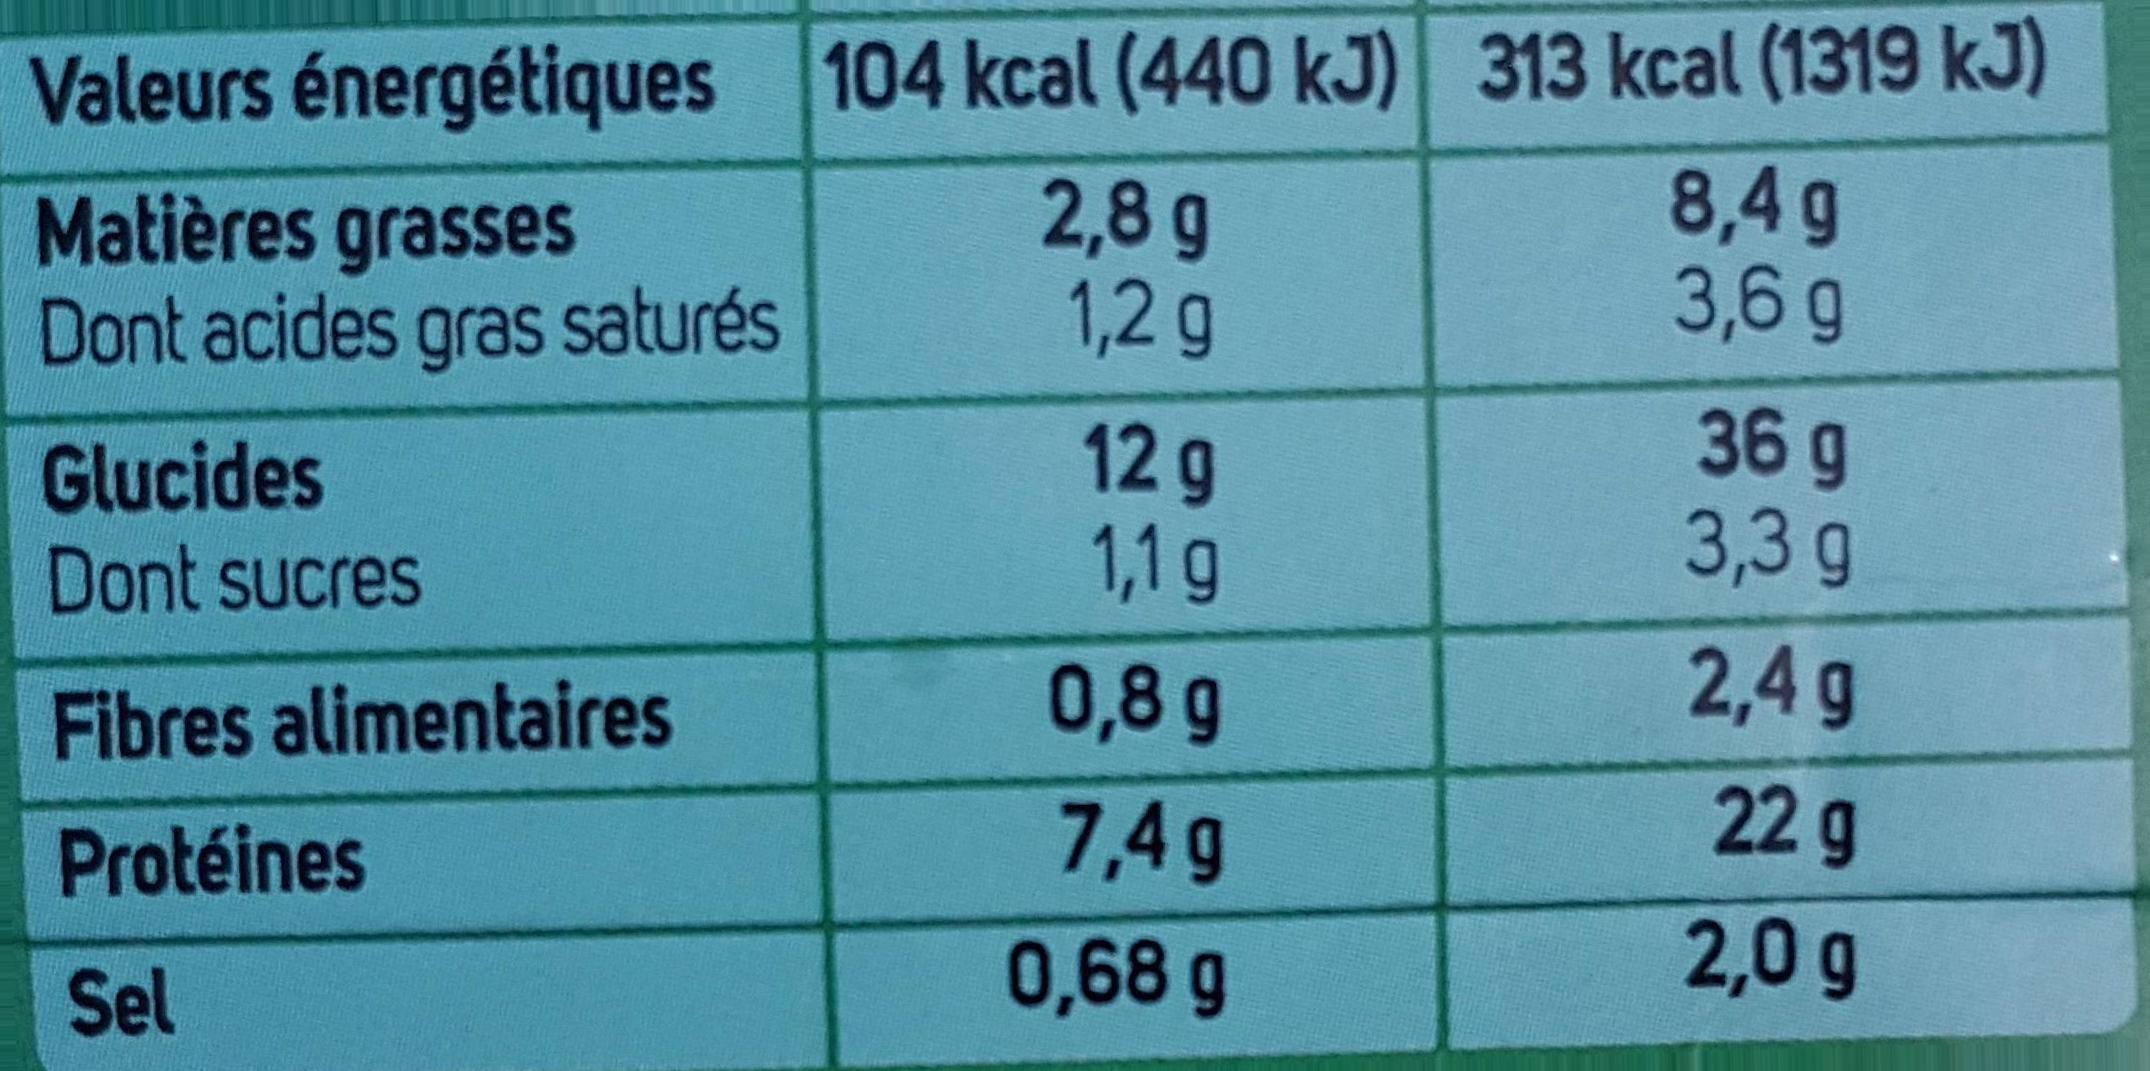column: (25, 45, 777, 1046), (819, 32, 1394, 1023), (1463, 12, 2040, 991)
line: (43, 8, 2040, 129), (56, 634, 1858, 767), (70, 915, 1868, 1038), (49, 398, 1859, 517), (60, 779, 1868, 895), (43, 158, 1841, 262), (38, 278, 1847, 378), (51, 525, 1858, 618)
table: (10, 1, 2140, 1070)
